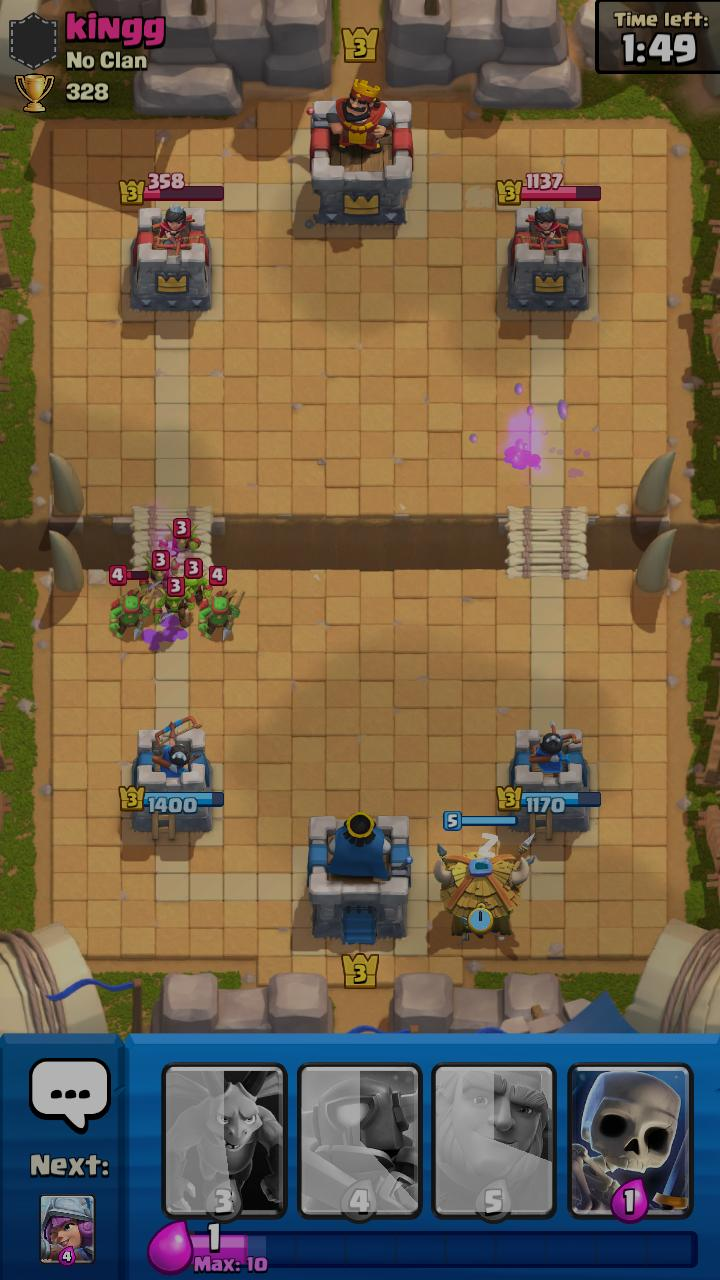ally: (433, 811, 536, 942)
enemy: (109, 565, 157, 641), (198, 566, 246, 641), (153, 577, 195, 628), (139, 550, 180, 595), (158, 518, 201, 558), (183, 558, 213, 606)
